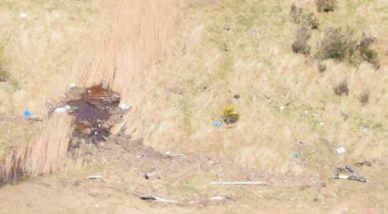scattered_barrel: (210, 85, 375, 161), (10, 93, 47, 131)
straight_bar: (209, 164, 272, 196)
